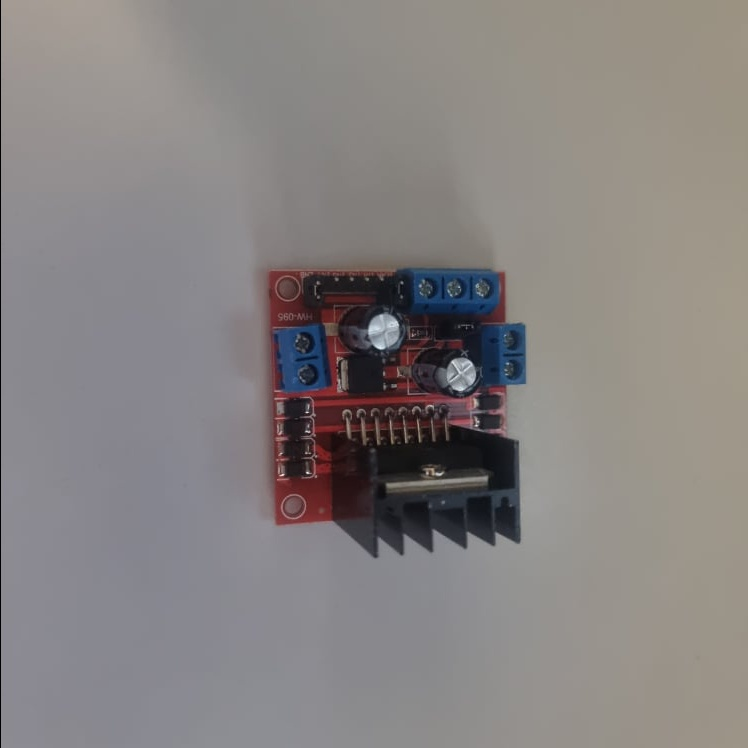MOTOR: (271, 266, 526, 564)
